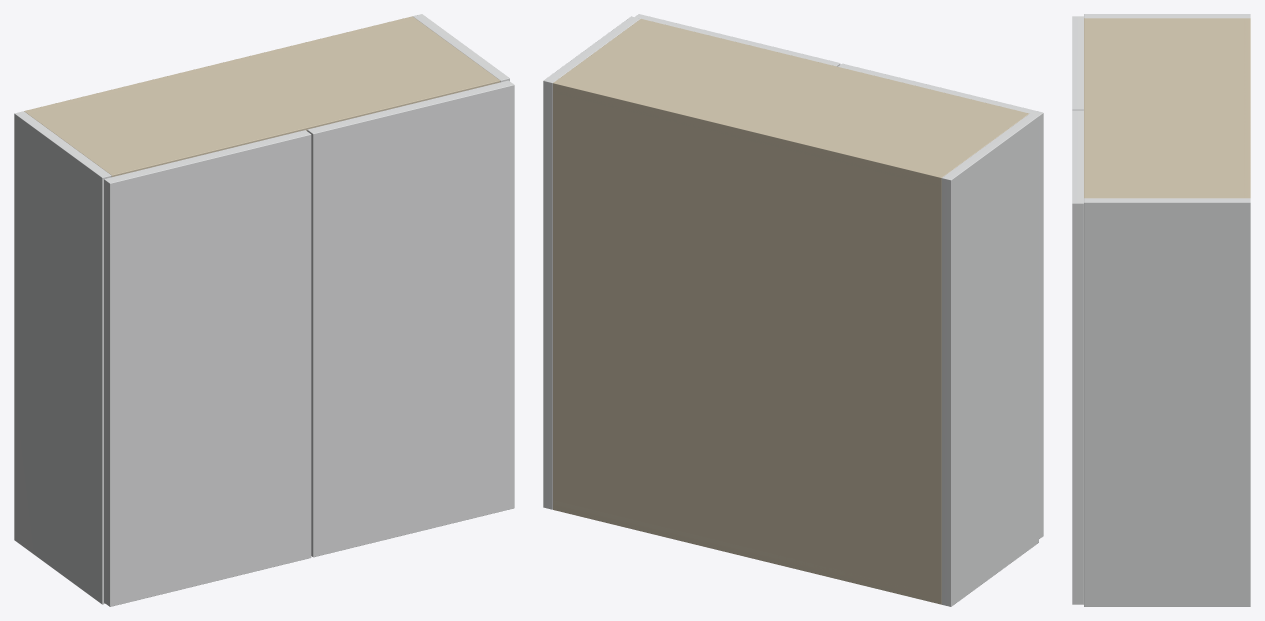
Rendered from oppein-ply-pgw-w3030.glb.
The picture shows the model from 3 angles, left to right: view 1: azimuth 30°, elevation 25°; view 2: azimuth 150°, elevation 25°; view 3: azimuth 270°, elevation 25°; orthographic projection. The views are drawn at different scales.
Visible parts, largest first — view 1: Door, Door.001, Cabinet side, Cabinet top, Cabinet back, Cabinet side.001; view 2: Cabinet back, Cabinet side, Cabinet top, Cabinet side.001, Cabinet bottom, Door, Door.001; view 3: Cabinet side.001, Cabinet top, Door.001, Cabinet back, Door, Cabinet side.
Part boxes in pixels (x1,y1,x2,y2): Door: (104,130,311,606); Door.001: (307,80,514,557); Cabinet side: (14,111,111,604); Cabinet top: (24,16,500,176); Cabinet back: (24,16,415,113); Cabinet side.001: (413,14,509,82); Cabinet back: (553,80,944,604); Cabinet side: (941,113,1038,606); Cabinet top: (553,19,1029,186); Cabinet side.001: (543,16,640,509); Cabinet bottom: (553,500,941,604); Door: (838,63,1043,538); Door.001: (635,14,840,66); Cabinet side.001: (1084,198,1250,606); Cabinet top: (1084,18,1250,198); Door.001: (1072,110,1083,604); Cabinet back: (1244,18,1250,198); Door: (1072,16,1083,110); Cabinet side: (1084,14,1250,18).
Size of the model in its own units: 0.762 by 0.762 by 0.3048.
